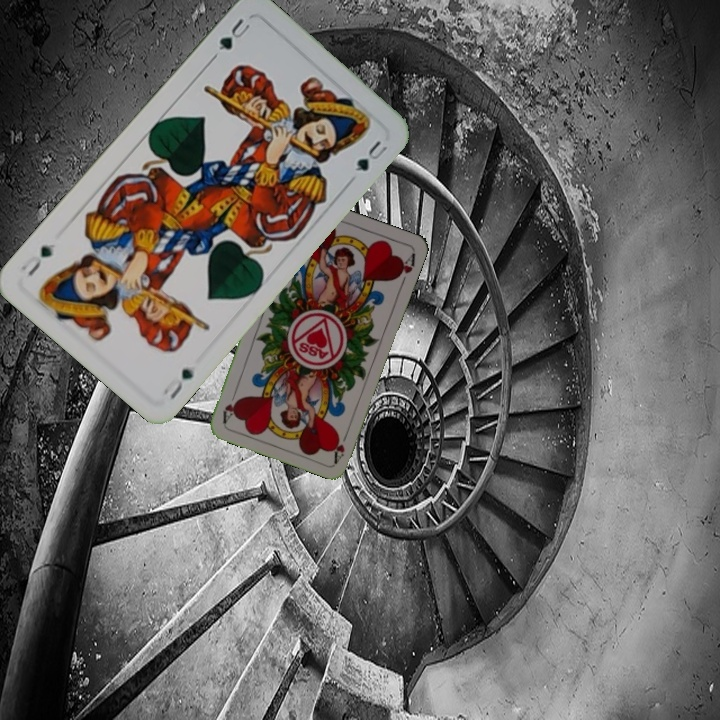GU: (214, 14, 253, 53), (159, 364, 197, 402)
HA: (329, 426, 351, 465)
